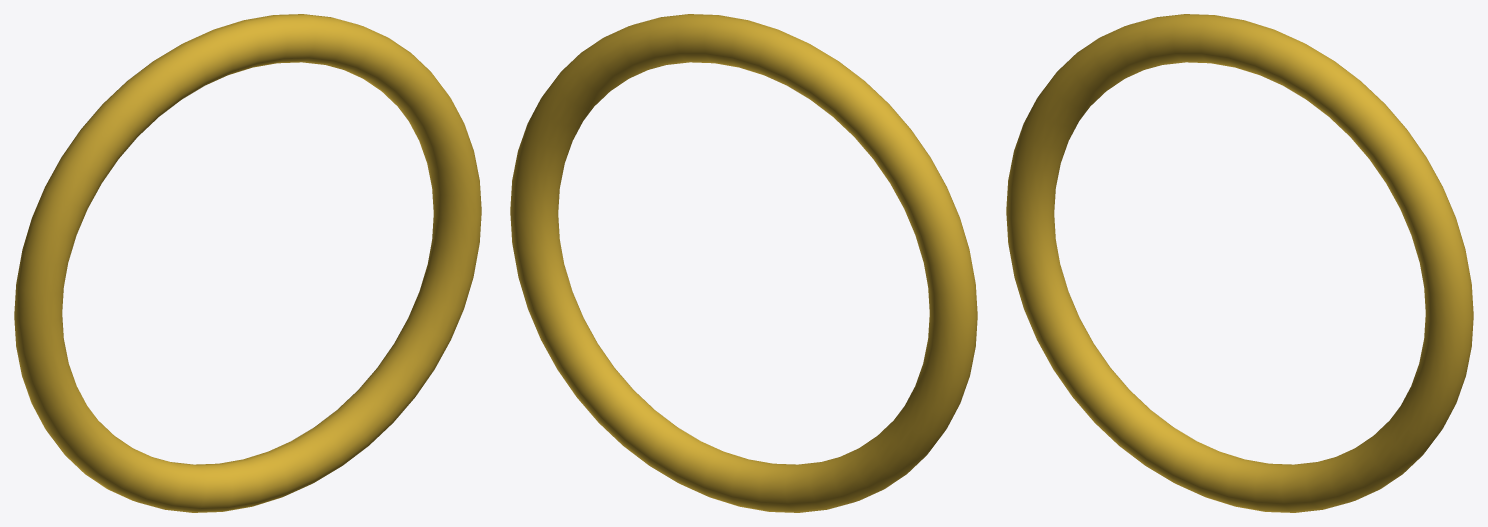
Rendered from placeholder-earring.glb.
3 views of the same model, side by side, from view 1: azimuth 30°, elevation 25°; view 2: azimuth 150°, elevation 25°; view 3: azimuth 330°, elevation 25° (orthographic).
Size of the model in its own units: 0.0176 by 0.0176 by 0.0016.
